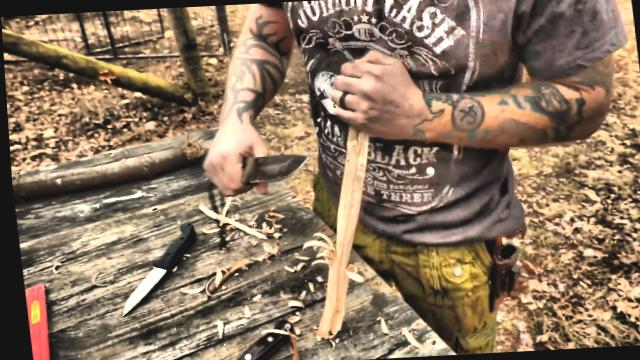knife: (196, 134, 321, 205)
